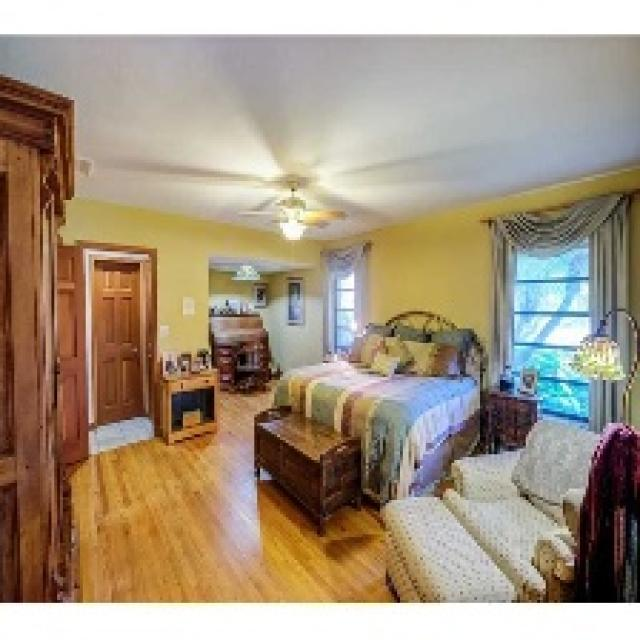Bed: (271, 308, 486, 506)
